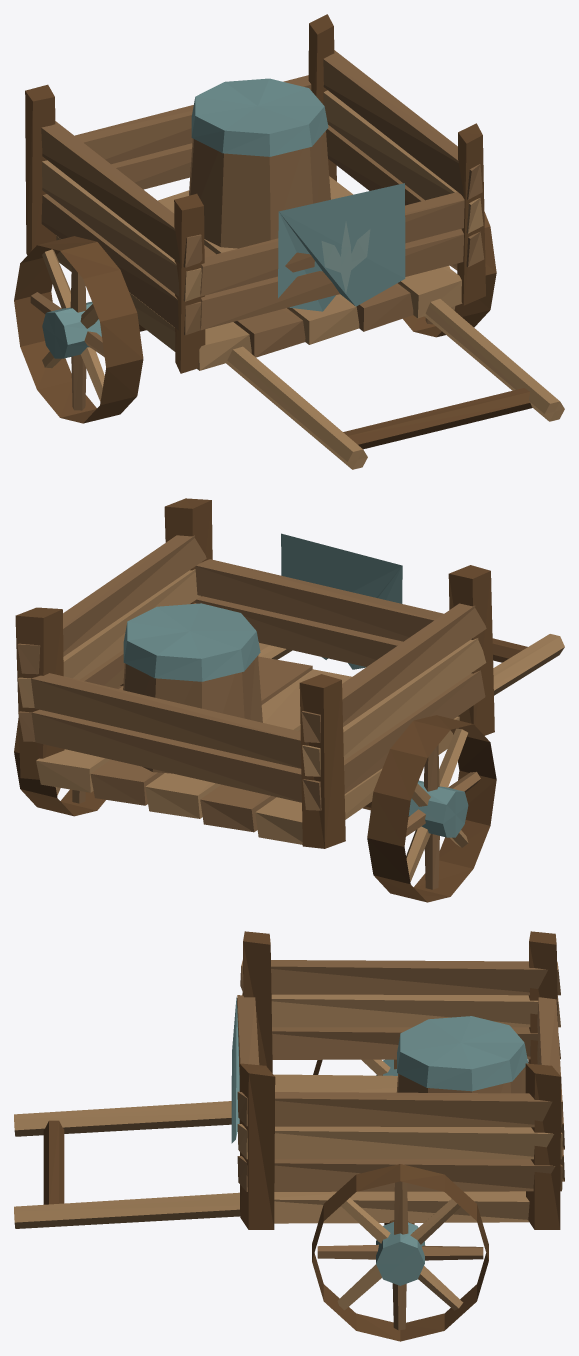
Rendered from supply_cart.glb.
3 views of the same model, one above another, from view 1: azimuth 30°, elevation 25°; view 2: azimuth 150°, elevation 25°; view 3: azimuth 270°, elevation 25° (orthographic). The views are drawn at different scales.
Parts seen in each view (by area): view 1: WoodlandMesh; view 2: WoodlandMesh; view 3: WoodlandMesh.
Boxes of the visible parts, box(x1,y1,x2,y2) form: WoodlandMesh: box(14, 14, 564, 469); WoodlandMesh: box(14, 498, 564, 902); WoodlandMesh: box(14, 931, 564, 1341).
Size of the model in its own units: 2.36 by 1.45 by 2.93.
